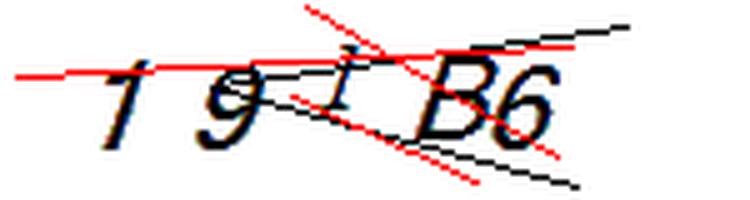1: (89, 49, 161, 163), (311, 35, 371, 136)
6: (487, 59, 576, 166)
9: (190, 56, 274, 157)
B: (410, 43, 503, 152)
